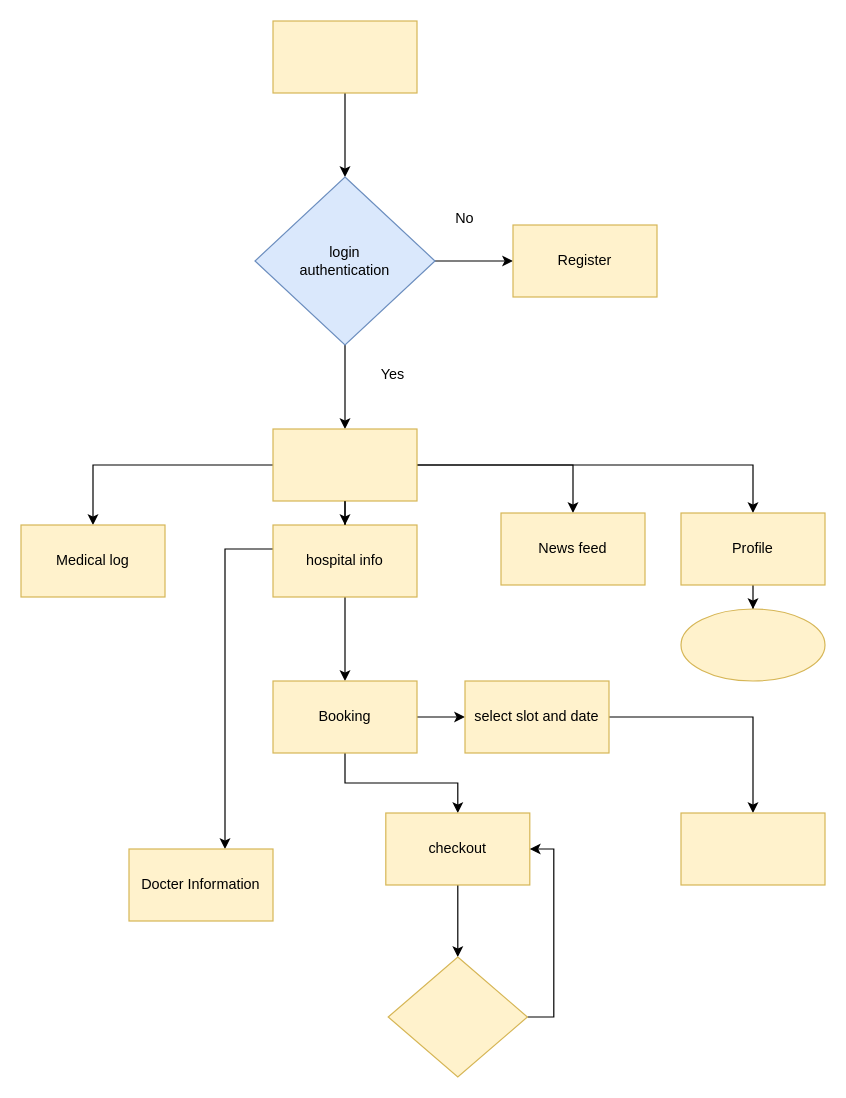
The diagram is 846 pixels wide and 1098 high, and some of its shapes have lost their labels. Each missing label, with the box of its shape:
booked and occupied: (387, 956, 527, 1077)
Dashboard: (272, 428, 417, 501)
E-prescription: (680, 812, 825, 885)
show profile details: (680, 608, 825, 681)
Start: (272, 20, 417, 93)
